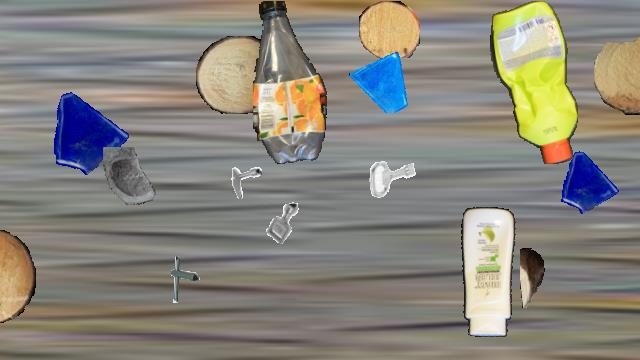glass: (41, 85, 131, 175), (97, 147, 165, 215), (555, 148, 621, 214), (349, 50, 411, 112)
metal: (361, 148, 421, 208), (255, 195, 311, 251), (156, 253, 208, 305), (220, 156, 262, 198)
plastic: (489, 1, 579, 163), (253, 1, 329, 163), (454, 207, 518, 337)
wood: (196, 36, 278, 114), (594, 23, 640, 115), (359, 1, 419, 59), (0, 230, 36, 324), (520, 248, 544, 308)
